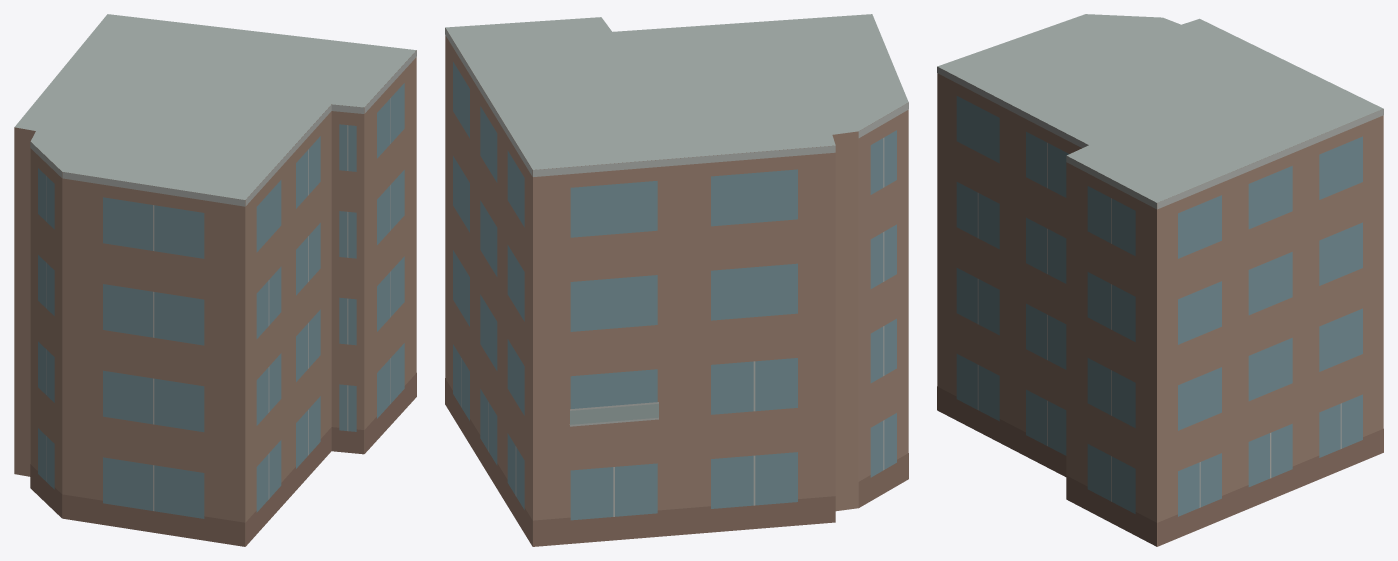
The model's file is survey-upis-33022429.glb.
The picture shows the model from 3 angles, left to right: view 1: azimuth 30°, elevation 25°; view 2: azimuth 150°, elevation 25°; view 3: azimuth 270°, elevation 25°; orthographic projection. The views are drawn at different scales.
Parts seen in each view (by area): view 1: survey-upis-33022429.tmp; view 2: survey-upis-33022429.tmp; view 3: survey-upis-33022429.tmp.
Part boxes in pixels (<box>): survey-upis-33022429.tmp: <box>14,14,416,546</box>; survey-upis-33022429.tmp: <box>445,14,908,546</box>; survey-upis-33022429.tmp: <box>937,14,1383,546</box>.
Size of the model in its own units: 15.09 by 12.8 by 15.07.
